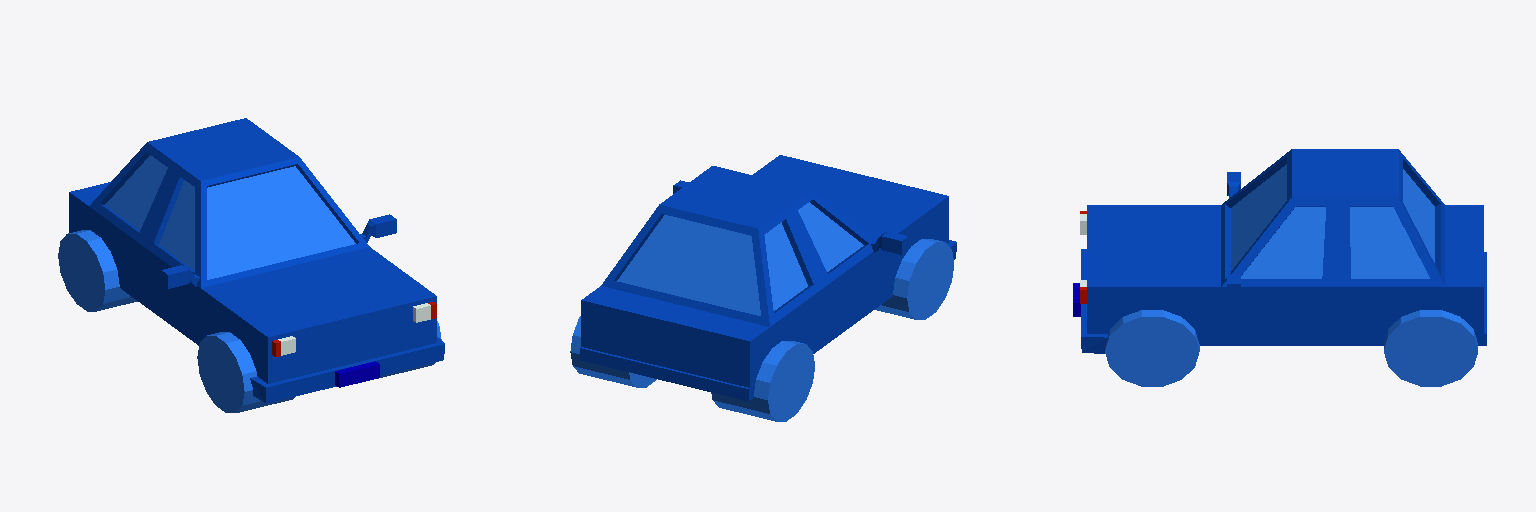
File: car.obj
3 views of the same model, side by side, from view 1: azimuth 30°, elevation 25°; view 2: azimuth 150°, elevation 25°; view 3: azimuth 270°, elevation 25° (orthographic).
Visible parts, largest first — view 1: Cube, Cylinder.006, Cylinder.004, Cube.002, Cube.001, Cube.003; view 2: Cube, Cylinder.006, Cylinder.004, Cylinder.002, Cube.002; view 3: Cube, Cylinder, Cylinder.002, Cube.002.
Part boxes in pixels (bbox=[...]): Cube: bbox=[69, 118, 444, 403]; Cylinder.006: bbox=[58, 230, 137, 311]; Cylinder.004: bbox=[197, 332, 294, 412]; Cube.002: bbox=[161, 214, 396, 288]; Cube.001: bbox=[272, 302, 436, 356]; Cube.003: bbox=[335, 361, 379, 387]; Cube: bbox=[580, 155, 956, 401]; Cylinder.006: bbox=[711, 341, 814, 421]; Cylinder.004: bbox=[875, 239, 953, 319]; Cylinder.002: bbox=[570, 316, 656, 387]; Cube.002: bbox=[673, 180, 908, 254]; Cube: bbox=[1081, 149, 1486, 353]; Cylinder: bbox=[1105, 310, 1199, 386]; Cylinder.002: bbox=[1384, 310, 1477, 386]; Cube.002: bbox=[1227, 172, 1240, 296].
Bounding box in the file's own units: 2.7 × 1.87 × 4.24.